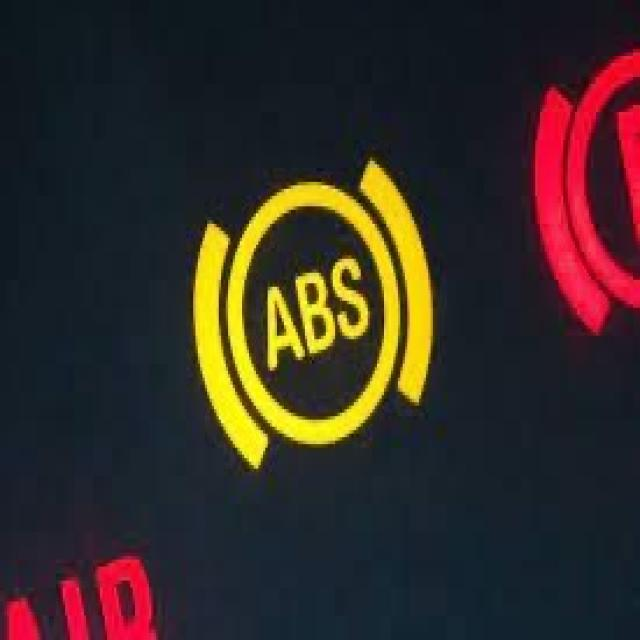kontrolka: (168, 141, 453, 489)
